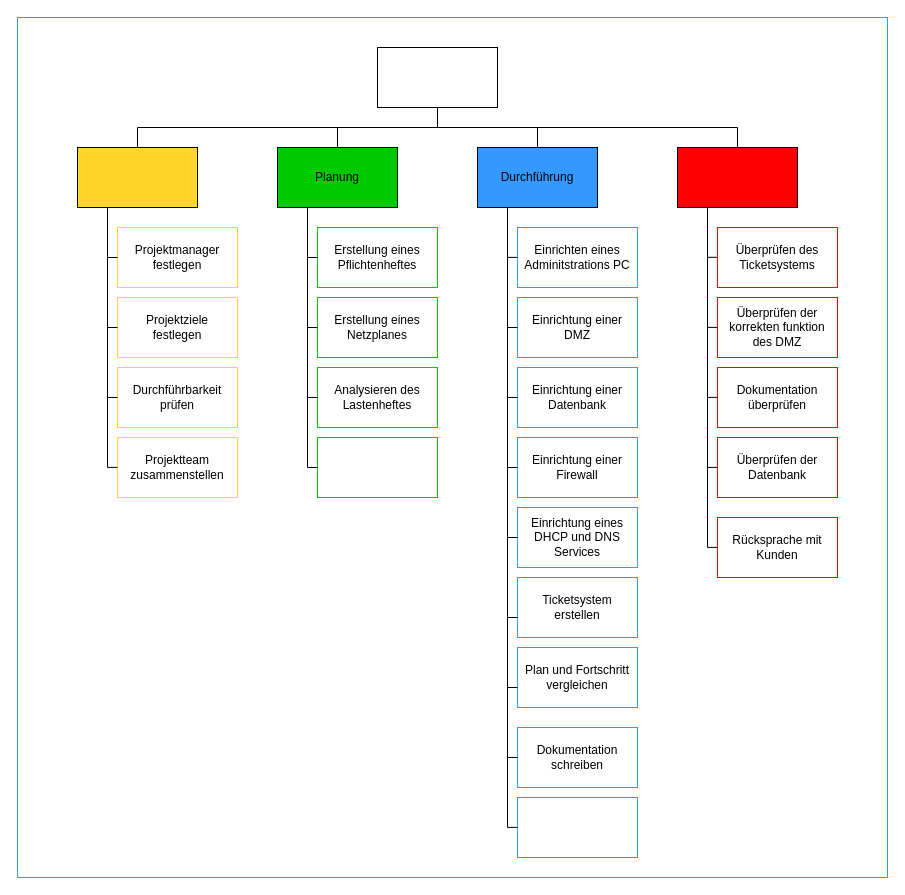
This 905x895 diagram has some shape labels left out. Here are the shapes that lost their labels. From the top down, the centre of each, then its label:
At point (437, 77): "Projekt".
At point (137, 177): "Initialisierung".
At point (737, 177): "Kontrolle".
At point (377, 467): "Festlegung der geuntzten Betriebssyteme".
At point (577, 827): "Schulung von Mitarbeitern des Kunden".
